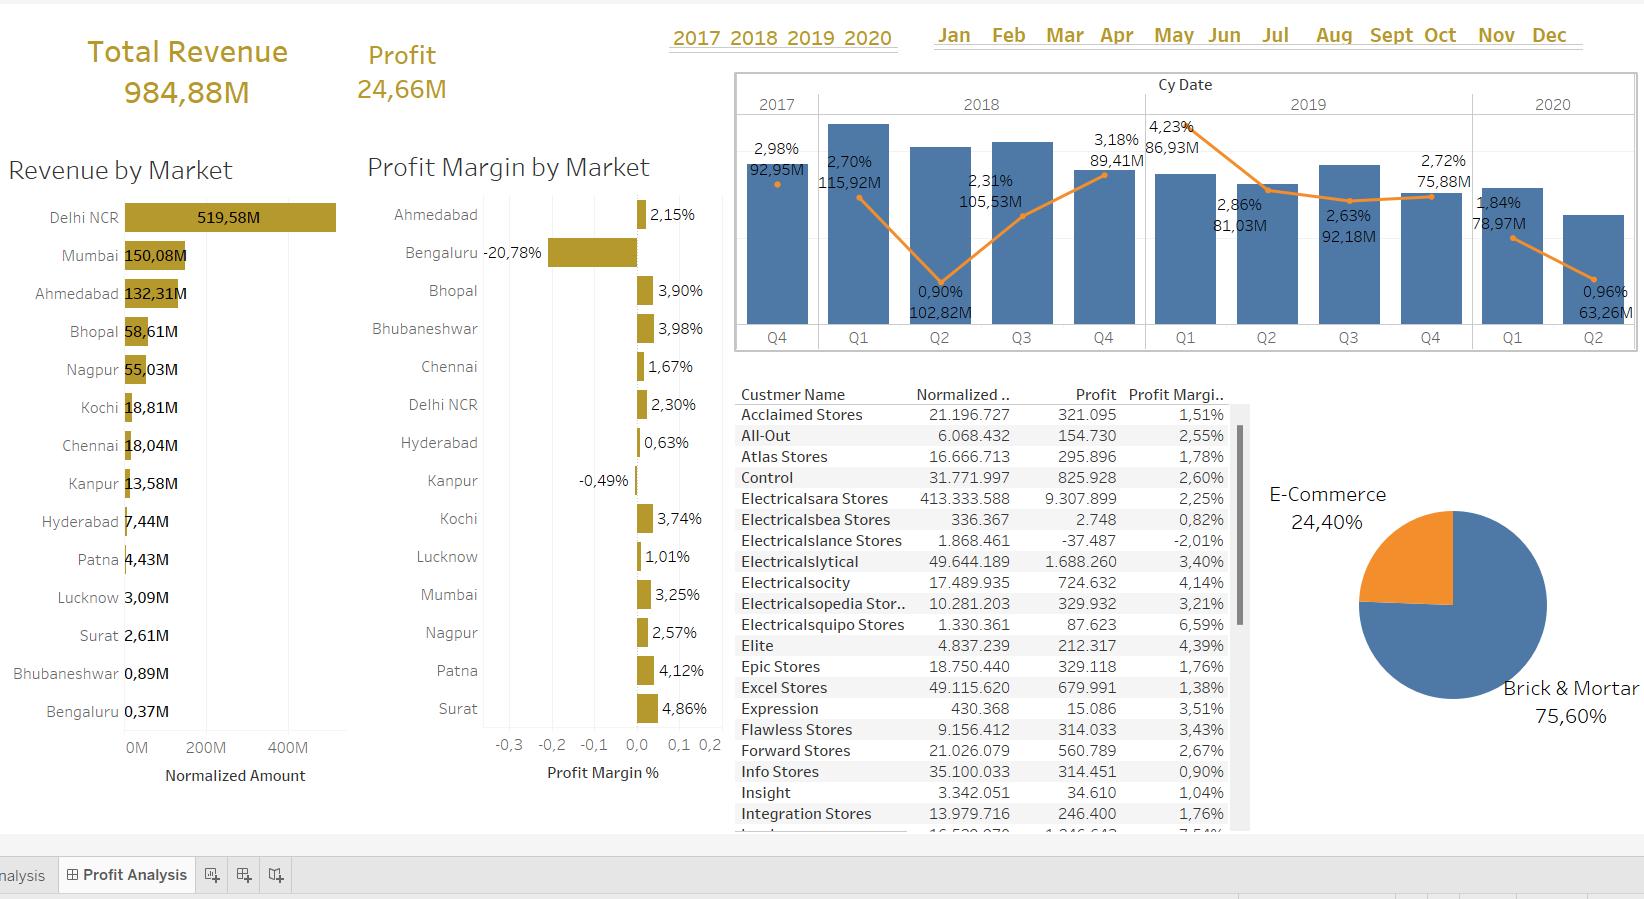

The dashboard page shown, as its layout file describes it:
{"tool":"tableau","page":{"name":"Profit Analysis","canvas":[1650,830],"ordinal":0},"visuals":[{"type":"worksheet","title":"Month","mark":"Automatic","cols":["cy_date"],"box":[935,5,663,49]},{"type":"worksheet","title":"Year","mark":"Automatic","cols":["cy_date"],"box":[670,8,239,54]},{"type":"worksheet","title":"Revenue","mark":"Automatic","box":[79,11,227,106]},{"type":"worksheet","title":"Profit","mark":"Automatic","box":[339,19,133,106]},{"type":"worksheet","title":"Profit trend","mark":"Bar","rows":["Calculation_1697575627972497408","Calculation_1872653063656165376"],"cols":["cy_date","cy_date"],"box":[737,70,900,276]},{"type":"legend","title":"Profit trend","param":"[federated.0dm1nkt0m7jdps171pq6d1ihrmlk].[:Measure Names]","box":[1212,70,168,64]},{"type":"worksheet","title":"Profit Margin by Market","mark":"Automatic","rows":["markets_name"],"cols":["Calculation_1872653063656165376"],"box":[364,141,360,672]},{"type":"worksheet","title":"Revenue by Market","mark":"Automatic","rows":["markets_name"],"cols":["Calculation_1697575627972497408"],"box":[5,144,343,673]},{"type":"worksheet","title":"pie chart","mark":"Pie","box":[1266,372,376,443]},{"type":"worksheet","title":"customer Table","mark":"Automatic","rows":["custmer_name"],"box":[736,380,518,448]}]}

Visuals, with their boxes on the page's 1650x830 design canvas (x1, y1, x2, y2). These are canvas units, not pixel positions in the 1644x899 screenshot, which may show the page scaled, cropped or inside an application window:
"Month" worksheet: box=[935, 5, 1598, 54]
"Year" worksheet: box=[670, 8, 909, 62]
"Revenue" worksheet: box=[79, 11, 306, 117]
"Profit" worksheet: box=[339, 19, 472, 125]
"Profit trend" worksheet (Bar marks): box=[737, 70, 1637, 346]
"Profit trend" legend: box=[1212, 70, 1380, 134]
"Profit Margin by Market" worksheet: box=[364, 141, 724, 813]
"Revenue by Market" worksheet: box=[5, 144, 348, 817]
"pie chart" worksheet (Pie marks): box=[1266, 372, 1642, 815]
"customer Table" worksheet: box=[736, 380, 1254, 828]
